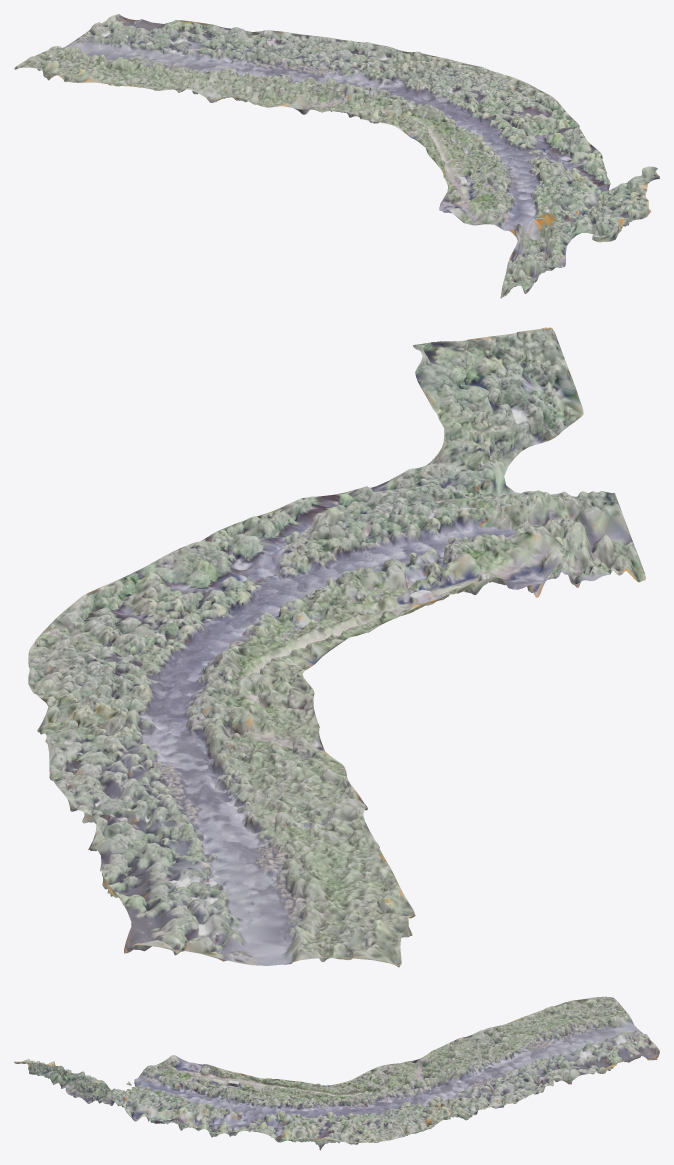
3 renders of one model, top to bottom at view 1: azimuth 30°, elevation 25°; view 2: azimuth 150°, elevation 25°; view 3: azimuth 270°, elevation 25°, orthographic. The views are drawn at different scales.
Parts seen in each view (by area): view 1: model; view 2: model; view 3: model.
Part boxes in pixels (left/top/right/bottom): model: left=14, top=14, right=659, bottom=298; model: left=28, top=327, right=645, bottom=967; model: left=14, top=996, right=659, bottom=1150.
Bounding box in the file's own units: 474 × 125 × 871.
